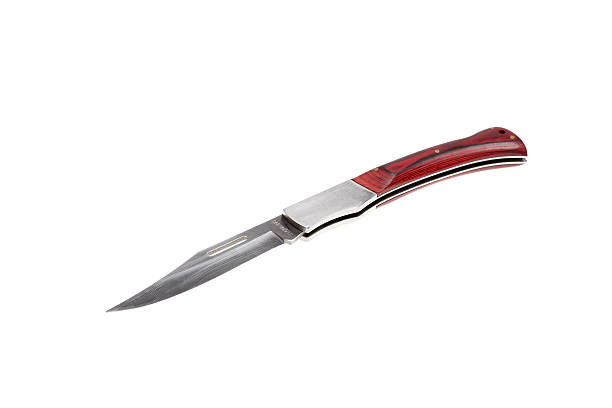knife: (105, 124, 529, 315)
